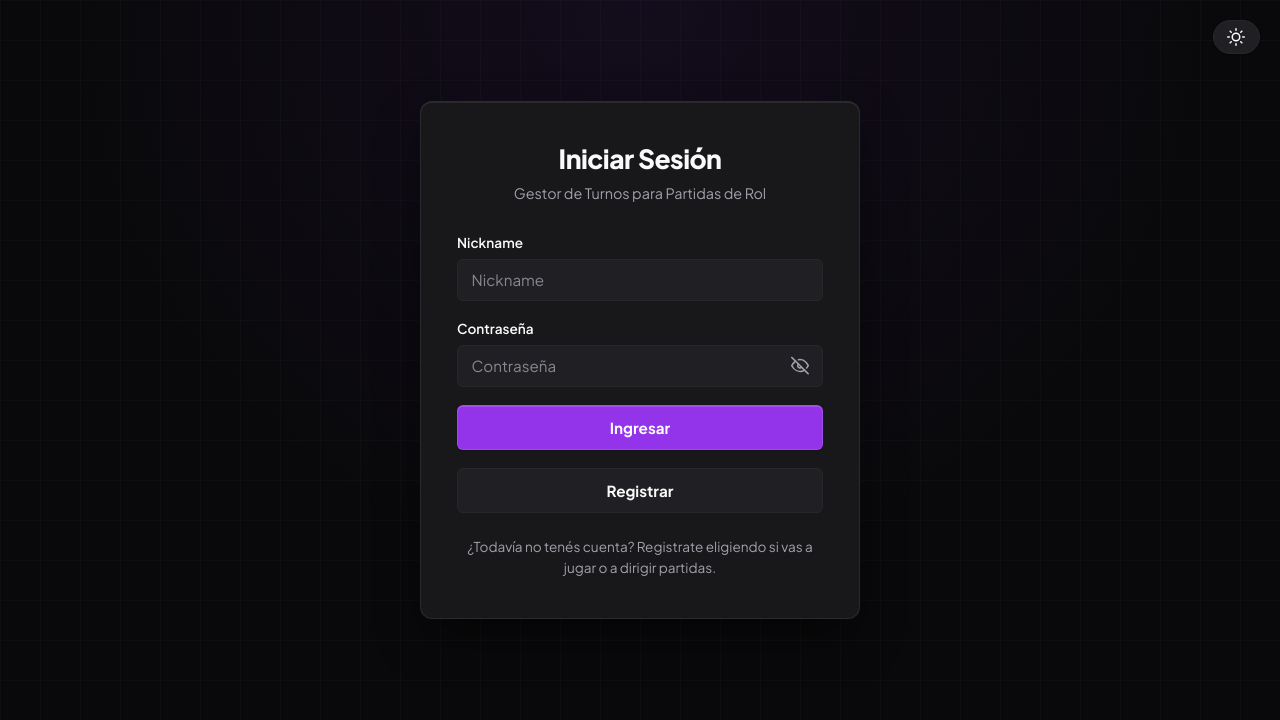
Scenario: Login servidor › muestra rechazo del servidor
Type "player" into the field with placeholder "Nickname" at (640, 280), box [457,259,823,300]
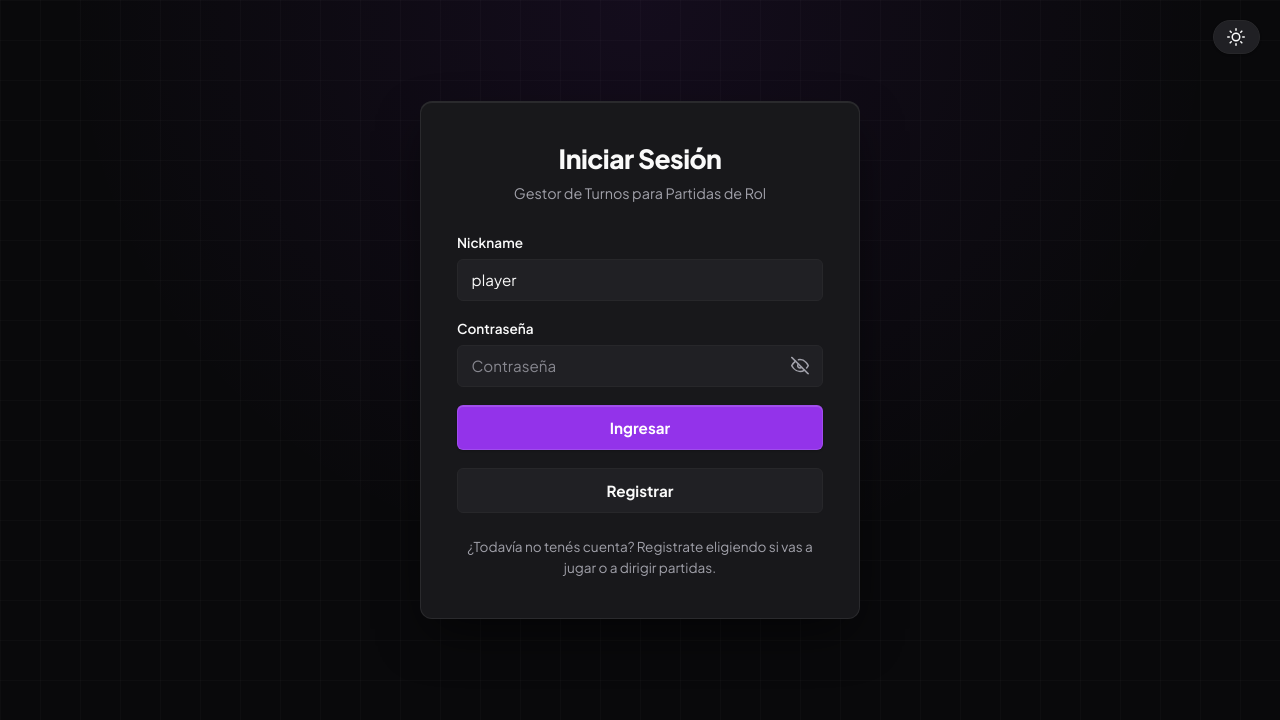
Type "pass123" into the password field with placeholder "Contraseña" at (640, 366), box [457,345,823,387]
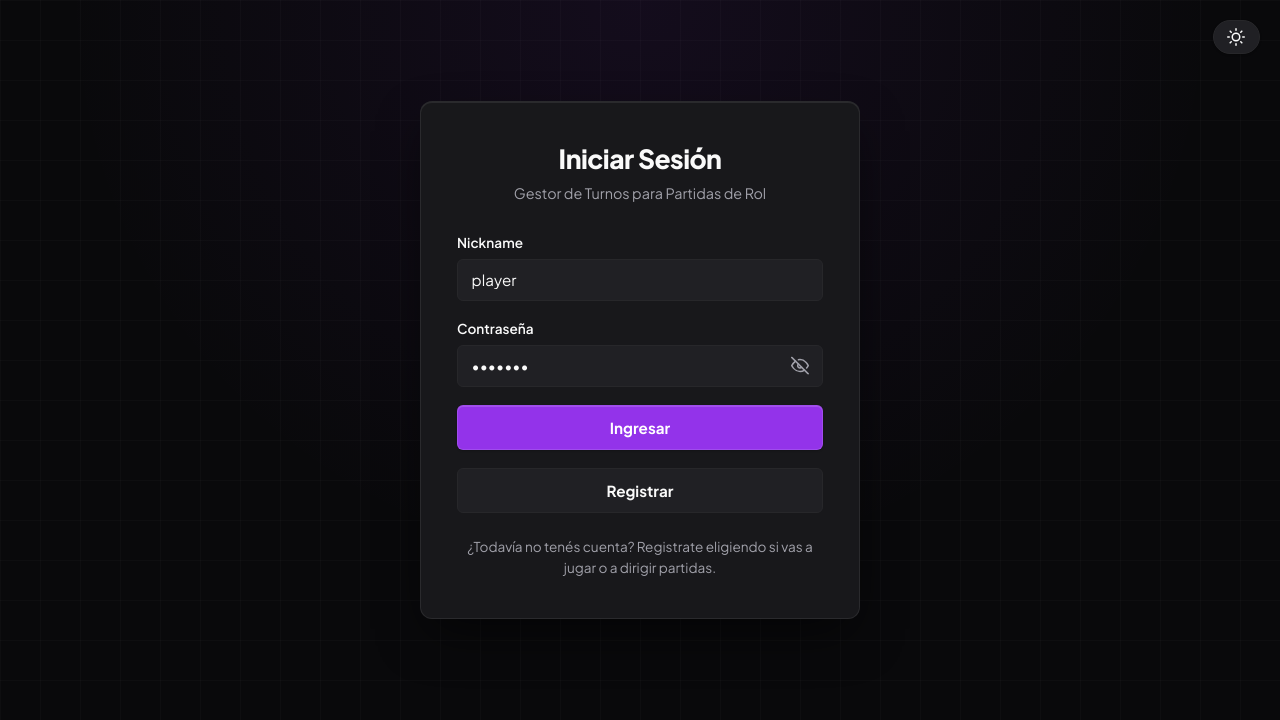
Click the button "Ingresar" at (640, 428), box [457,405,823,450]
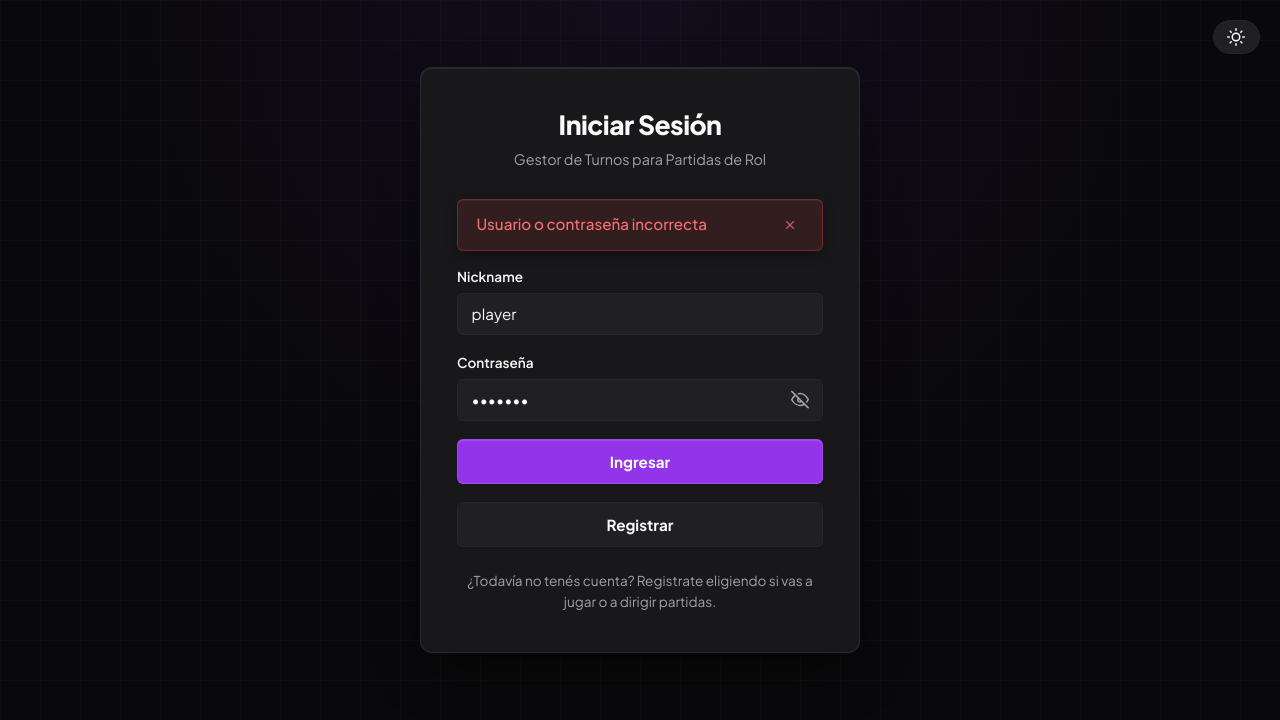
Expected: the text "Usuario o contraseña incorrecta" is shown, [476,214,707,233]
